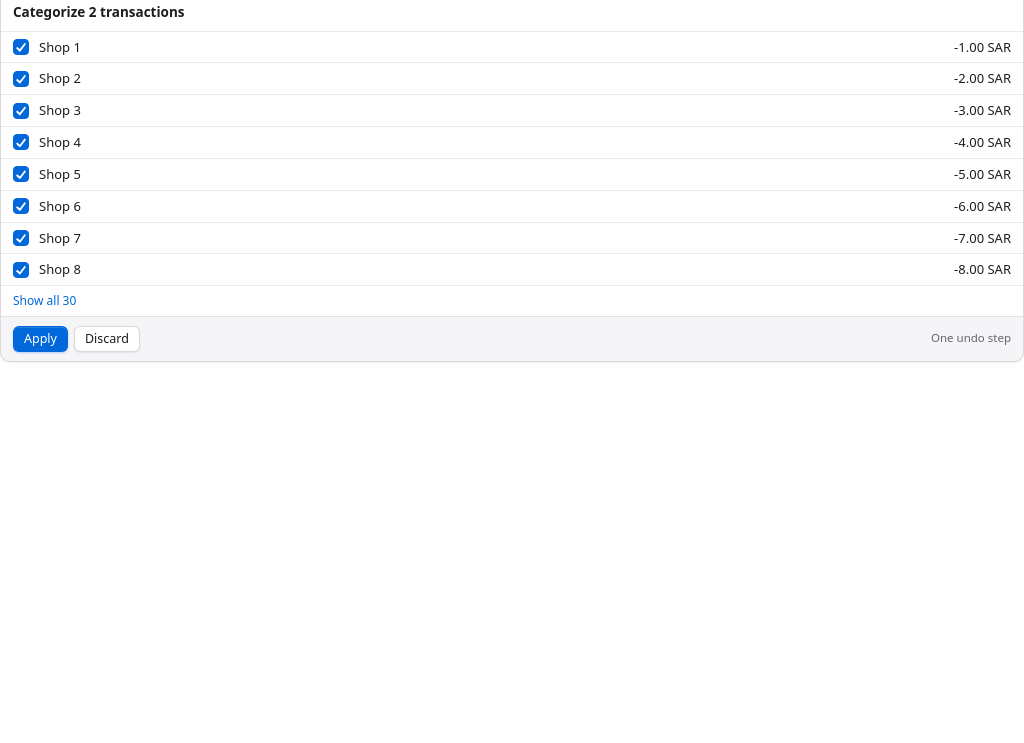
Test: lists every part of a long change, a few until asked for all
expect the text "Shop 30" is not shown: met
Click the button "Show all 30" at (45, 301), box [1, 285, 1023, 316]
(page scrolled)
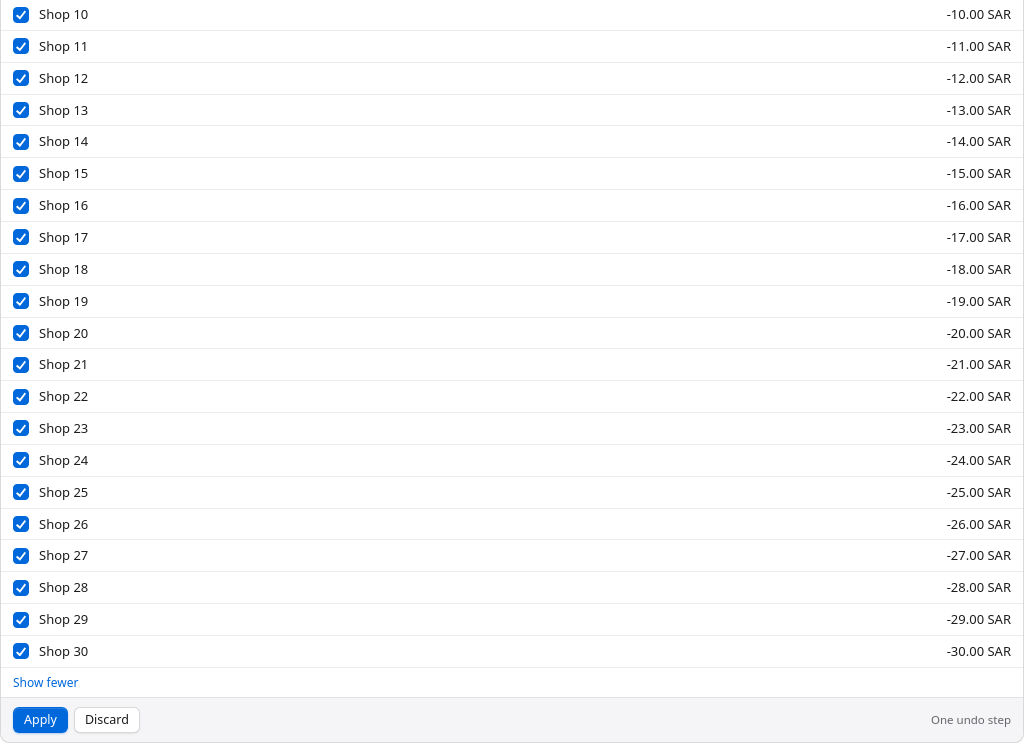
expect the text "Shop 30" is shown: met, box [39, 642, 88, 660]
Click the button "Show fewer" at (46, 682), box [1, 667, 1023, 697]
(page scrolled)
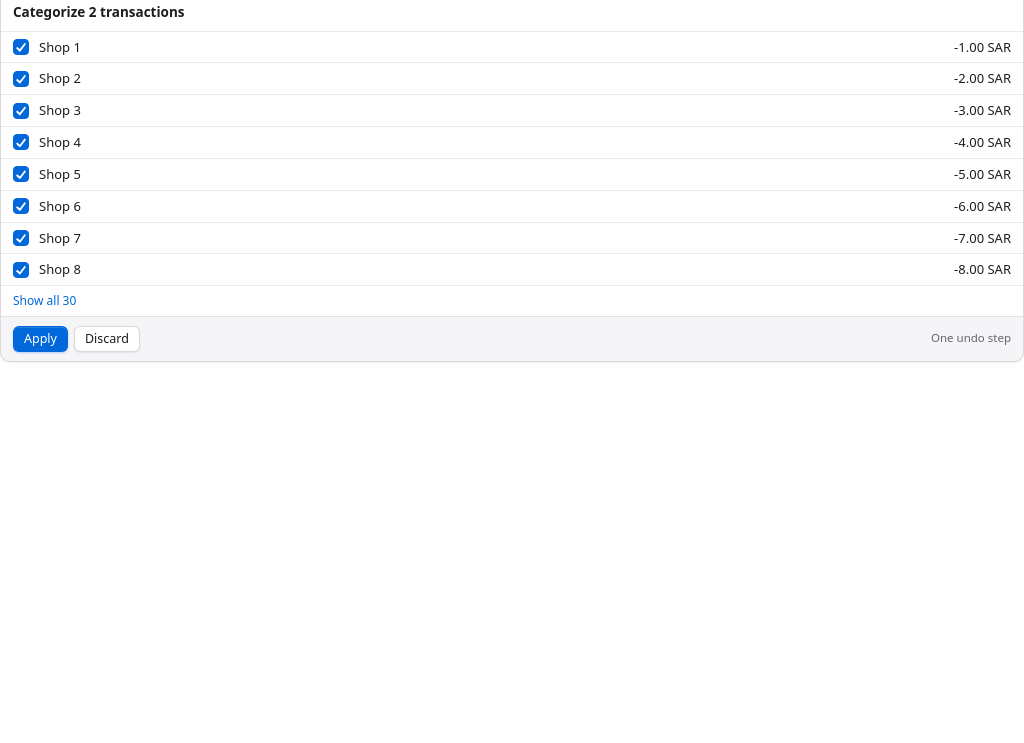
expect the text "Shop 30" is gone: met
